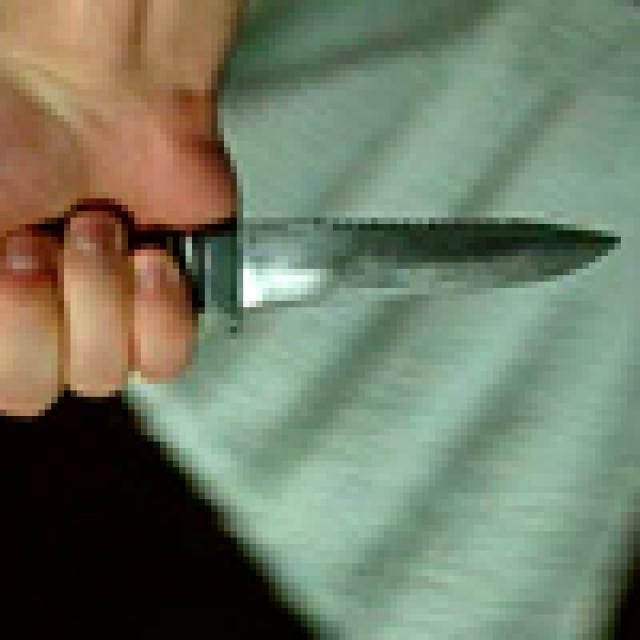weapon: (13, 204, 627, 346)
